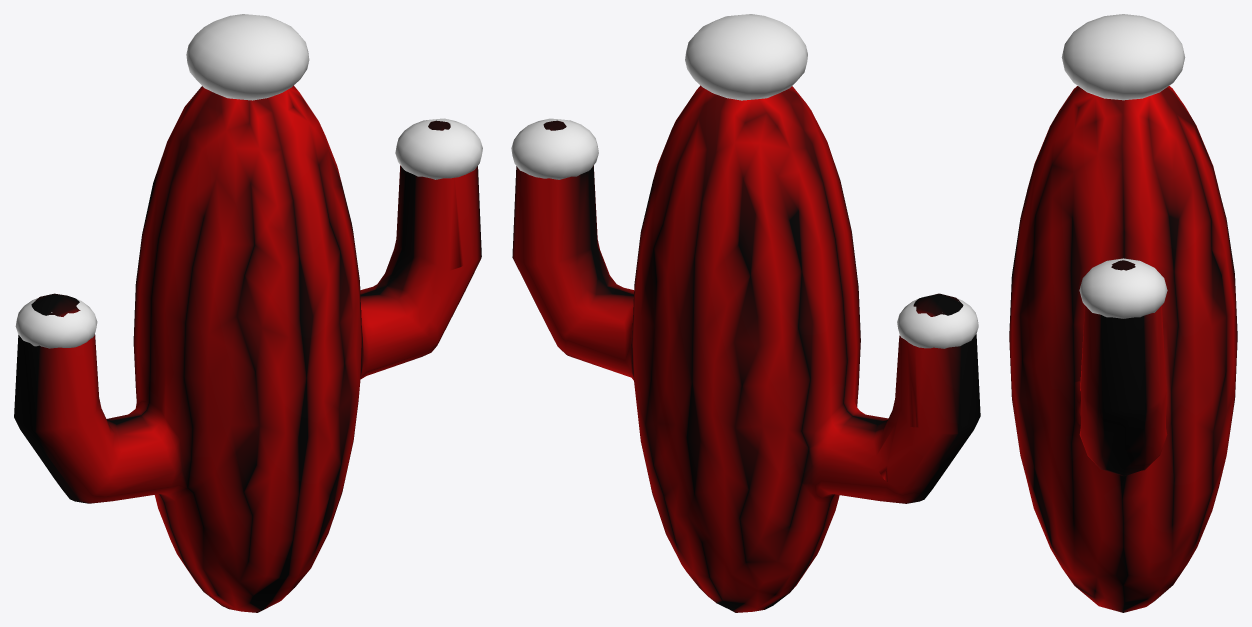
The model's file is bg-dunes-b.glb.
3 views of the same model, side by side, from view 1: azimuth 30°, elevation 25°; view 2: azimuth 150°, elevation 25°; view 3: azimuth 270°, elevation 25° (orthographic).
Visible parts, largest first — view 1: cactusBody, cactusFlower; view 2: cactusBody, cactusFlower; view 3: cactusBody, cactusFlower.
Boxes of the visible parts, x1,y1,x2,y2 form: cactusBody: [14, 85, 481, 612]; cactusFlower: [15, 14, 482, 348]; cactusBody: [512, 85, 980, 612]; cactusFlower: [511, 14, 978, 348]; cactusBody: [1009, 86, 1237, 612]; cactusFlower: [1061, 14, 1185, 318].
Size of the model in its own units: 3.58 by 4.39 by 1.55.
